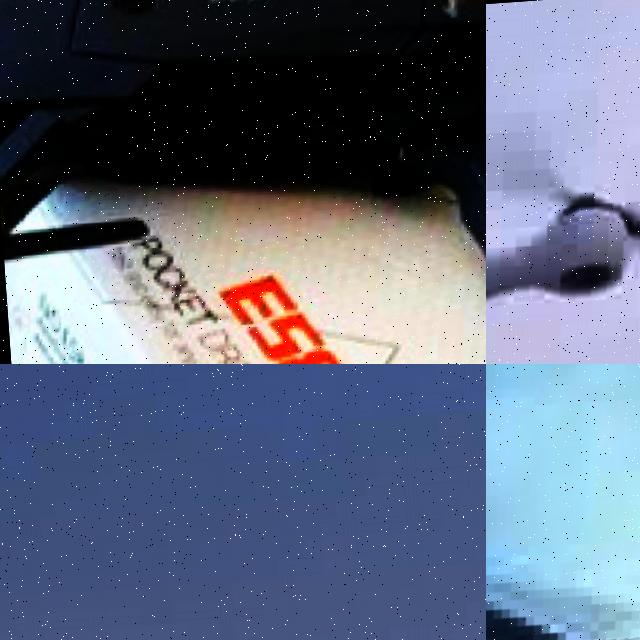drone: (0, 0, 486, 364), (486, 0, 640, 364), (486, 364, 640, 640)
